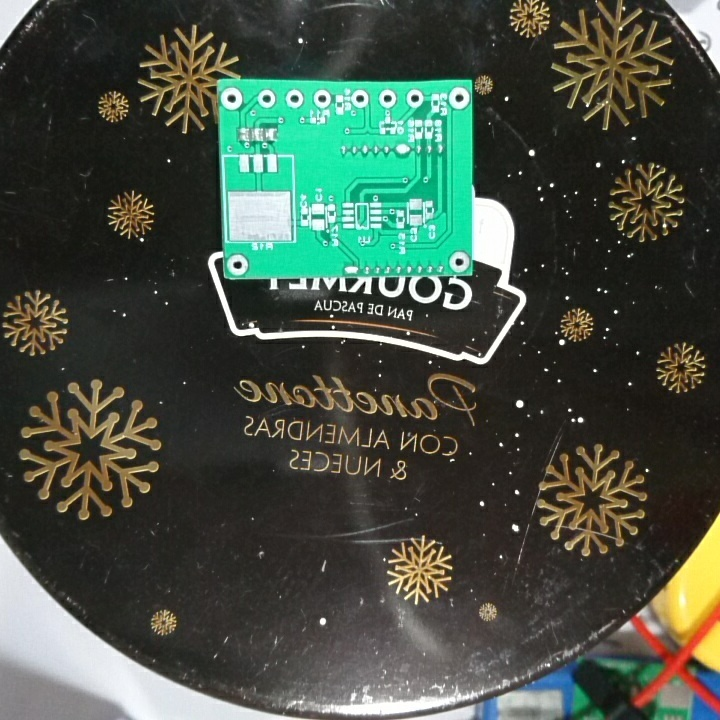F: (225, 251, 252, 279), (219, 86, 245, 113), (447, 86, 473, 113), (447, 250, 470, 274), (284, 86, 305, 112), (256, 86, 278, 110), (312, 86, 333, 111), (349, 88, 371, 110), (377, 87, 398, 109), (405, 89, 426, 109)
P: (393, 140, 412, 158), (341, 263, 362, 278)
